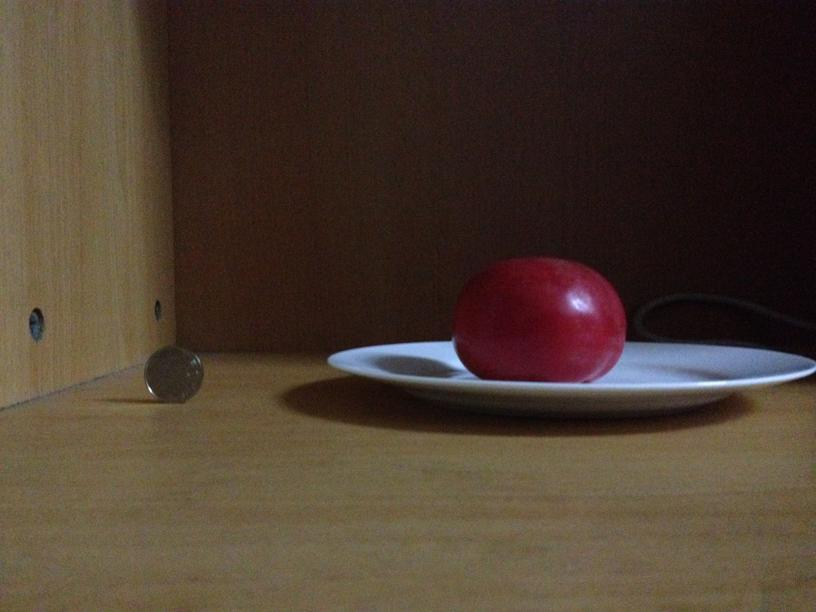coin: (145, 345, 206, 401)
tomato: (450, 257, 625, 381)
